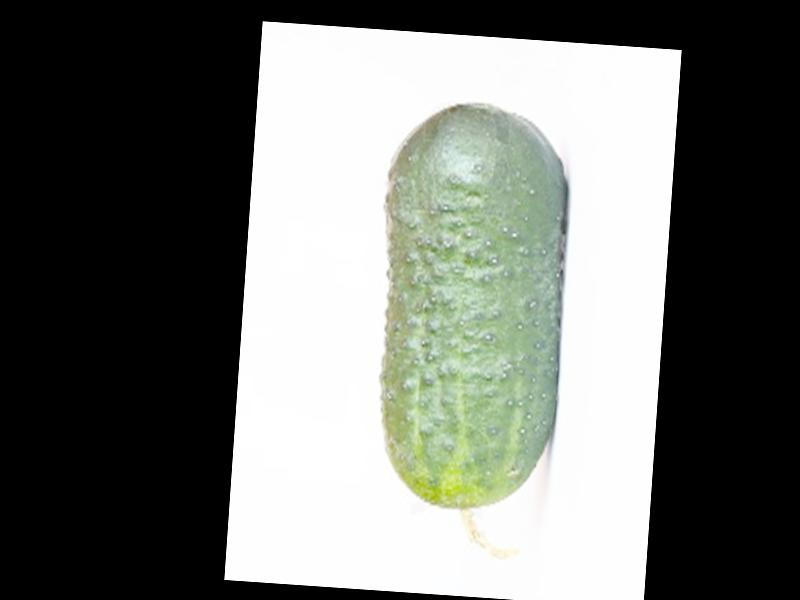Cucumber: (358, 99, 577, 562)
